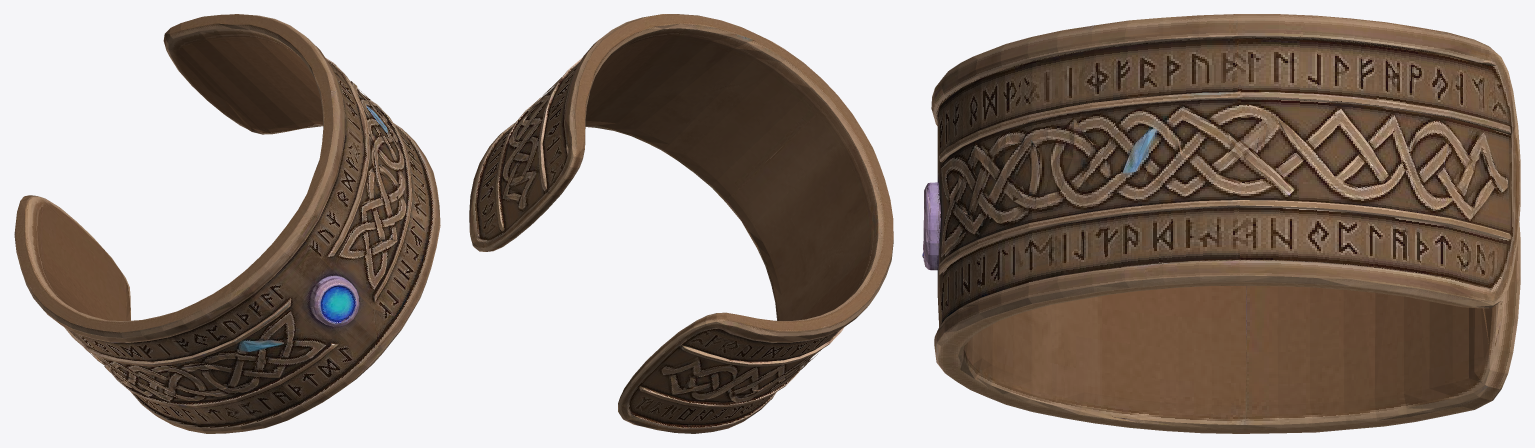
Rendered from ewm_armband.glb.
3 views of the same model, side by side, from view 1: azimuth 30°, elevation 25°; view 2: azimuth 150°, elevation 25°; view 3: azimuth 270°, elevation 25° (orthographic). The views are drawn at different scales.
Visible parts, largest first — view 1: ewm_armband; view 2: ewm_armband; view 3: ewm_armband.
Boxes of the visible parts, x1,y1,x2,y2 form: ewm_armband: (14,14,440,433); ewm_armband: (469,14,893,433); ewm_armband: (922,14,1520,433).
Size of the model in its own units: 0.1183 by 0.1129 by 0.118.
1 material, 1 textured.
